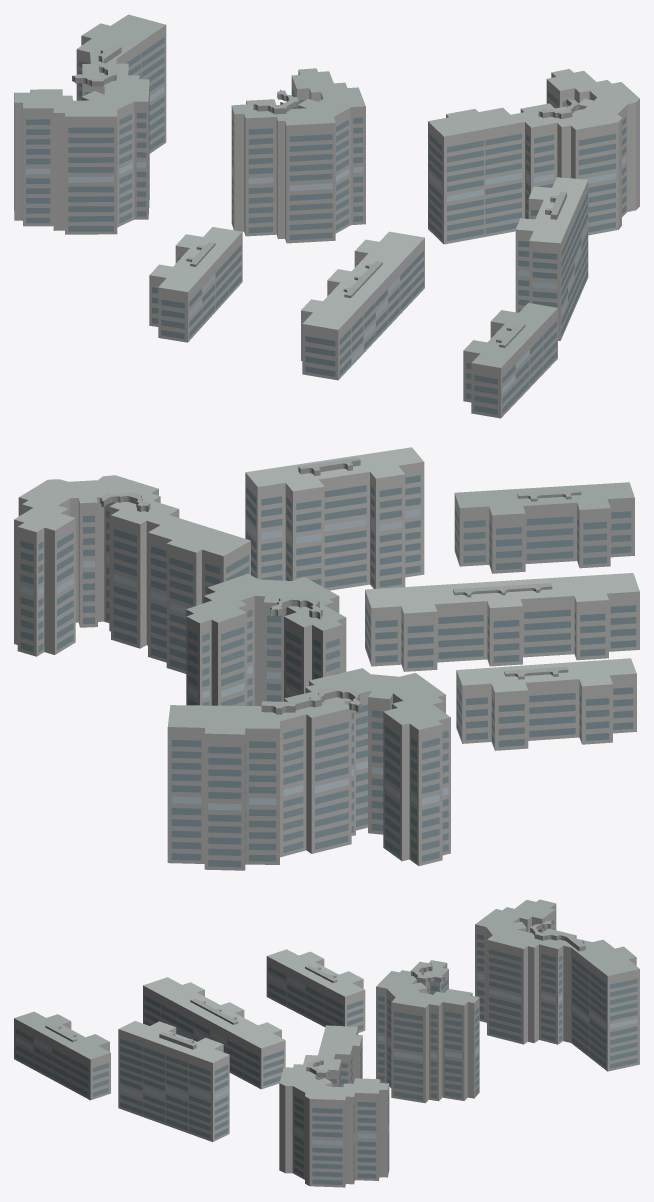
File: apt-a13410001.glb
3 views of the same model, one above another, from view 1: azimuth 30°, elevation 25°; view 2: azimuth 150°, elevation 25°; view 3: azimuth 270°, elevation 25° (orthographic). The views are drawn at different scales.
Parts seen in each view (by area): view 1: apt-a13410001; view 2: apt-a13410001; view 3: apt-a13410001.
Part boxes in pixels (left/top/right/bottom): apt-a13410001: left=14, top=14, right=639, bottom=418; apt-a13410001: left=14, top=447, right=639, bottom=870; apt-a13410001: left=14, top=899, right=639, bottom=1187.
Bounding box in the file's own units: 148 × 35 × 198.
